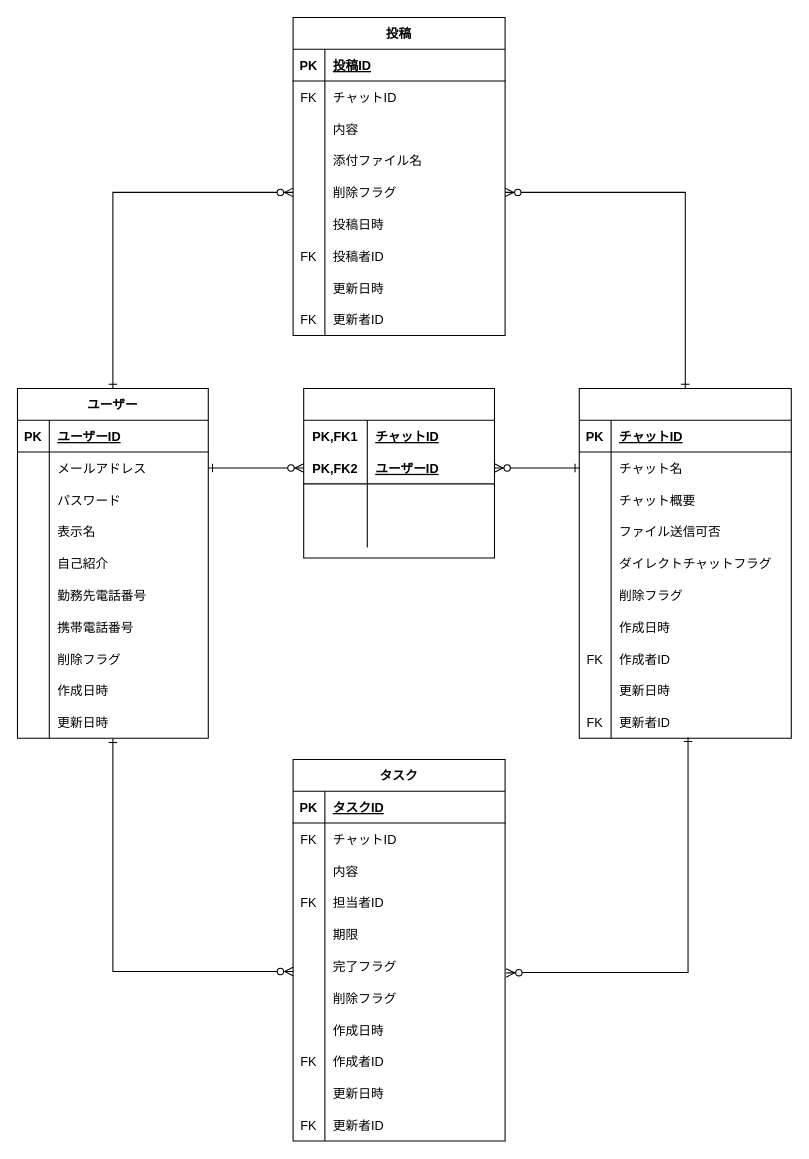
This 809x1159 diagram has some shape labels left out. Each missing label, with the box of its shape:
チャットルーム: (578, 387, 791, 738)
チャット参加ユーザー: (303, 387, 494, 558)
